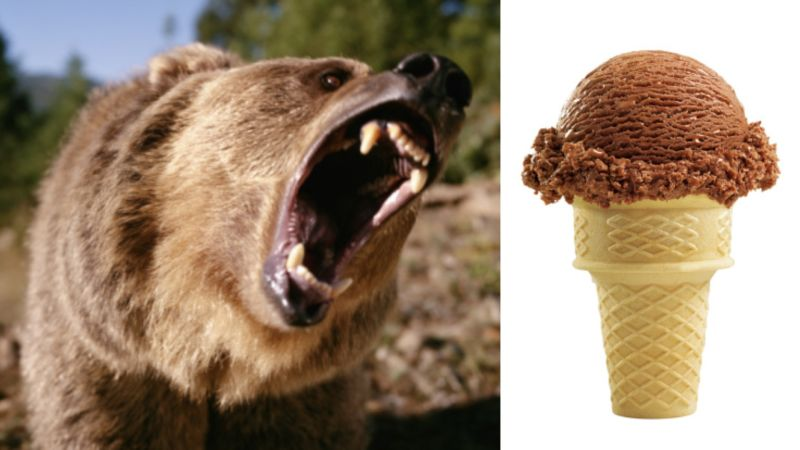bear: (15, 39, 477, 450)
